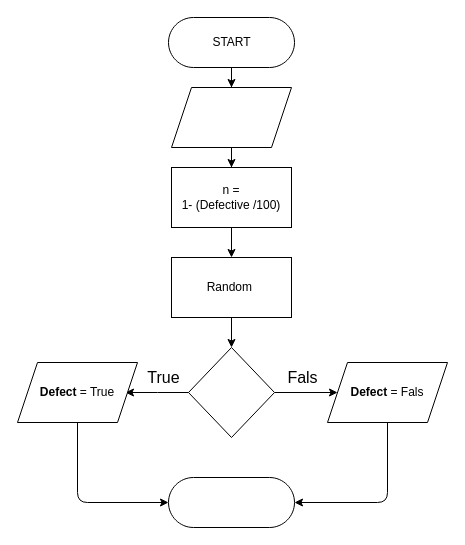
This 465x545 diagram has some shape labels left out. The shapes that lost their labels are listed below. From the top down, each one's box as (x1, y1, x2, y2) in pixels, then its label:
(170, 86, 292, 148): Ввод Defective (%)
(188, 346, 274, 438): Random > n
(168, 476, 294, 528): END
